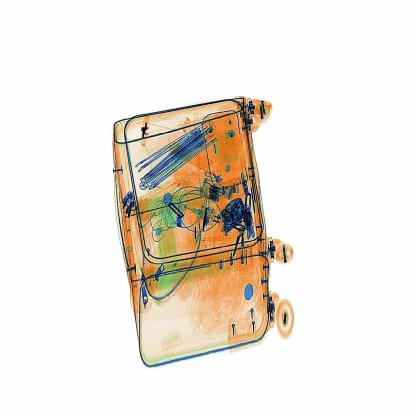gun: (120, 108, 161, 154)
